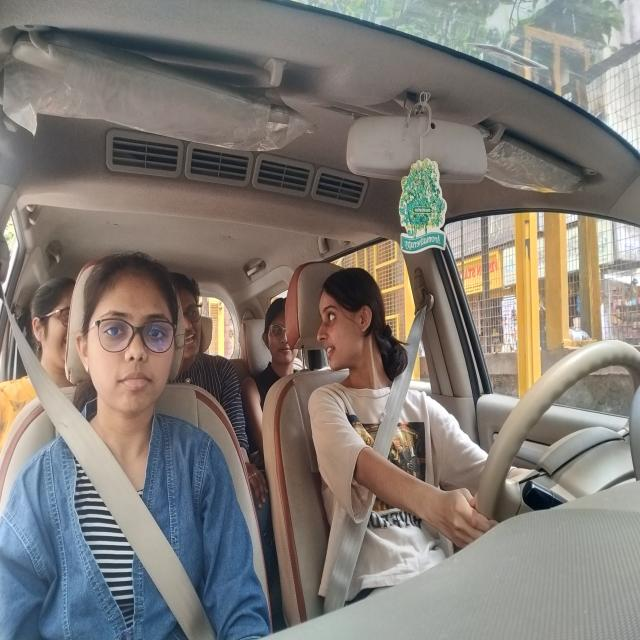LeftRight: (313, 275, 399, 370)
person: (81, 260, 181, 412), (31, 272, 65, 377), (180, 279, 212, 361), (261, 297, 293, 370)
talking: (318, 344, 341, 358)
